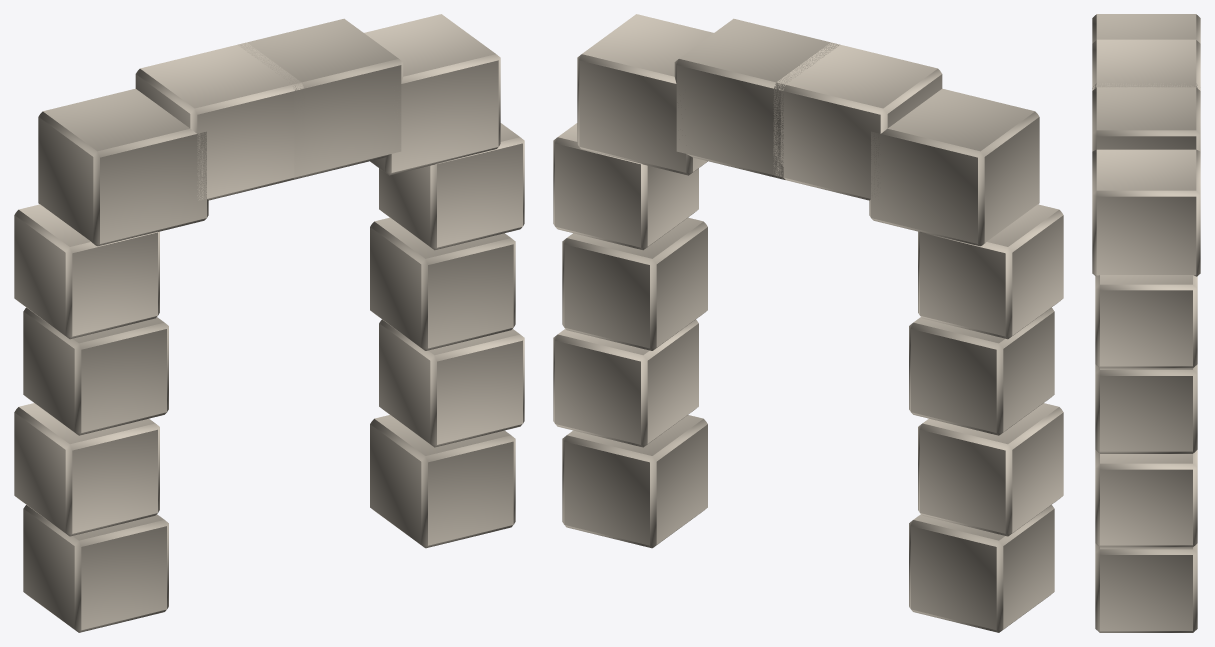
File: prop_ruin_arch.glb
The picture shows the model from 3 angles, left to right: view 1: azimuth 30°, elevation 25°; view 2: azimuth 150°, elevation 25°; view 3: azimuth 270°, elevation 25°; orthographic projection. The views are drawn at different scales.
Parts seen in each view (by area): view 1: arch_top_0, arch_top_1, arch_top_2, arch_1_0, arch_1_2, arch_-1_1, arch_top_3, arch_-1_3, arch_-1_2, arch_1_1, arch_-1_0, arch_1_3; view 2: arch_top_0, arch_top_1, arch_top_2, arch_1_0, arch_1_2, arch_-1_1, arch_top_3, arch_-1_3, arch_-1_2, arch_1_1, arch_-1_0, arch_1_3; view 3: arch_top_3, arch_1_1, arch_1_3, arch_1_0, arch_1_2, arch_top_2, arch_top_1, arch_top_0.
Part boxes in pixels (x1,y1,x2,y2): arch_top_0: (38, 88, 208, 246); arch_top_1: (135, 42, 304, 200); arch_top_2: (238, 18, 403, 179); arch_1_0: (370, 415, 515, 548); arch_1_2: (370, 217, 515, 350); arch_-1_1: (14, 403, 159, 536); arch_top_3: (364, 14, 500, 175); arch_-1_3: (14, 204, 159, 339); arch_-1_2: (23, 307, 168, 435); arch_1_1: (379, 319, 524, 447); arch_-1_0: (23, 505, 168, 632); arch_1_3: (379, 123, 524, 250); arch_top_0: (869, 88, 1039, 246); arch_top_1: (773, 42, 942, 200); arch_top_2: (674, 18, 839, 179); arch_1_0: (562, 415, 707, 548); arch_1_2: (562, 217, 707, 350); arch_-1_1: (918, 403, 1063, 536); arch_top_3: (577, 14, 713, 175); arch_-1_3: (918, 204, 1063, 339); arch_-1_2: (909, 307, 1054, 435); arch_1_1: (553, 319, 698, 447); arch_-1_0: (909, 505, 1054, 632); arch_1_3: (553, 123, 698, 250); arch_top_3: (1092, 149, 1200, 276); arch_1_1: (1095, 450, 1197, 547); arch_1_3: (1095, 275, 1197, 368); arch_1_0: (1095, 543, 1197, 632); arch_1_2: (1095, 364, 1197, 453); arch_top_2: (1092, 83, 1200, 151); arch_top_1: (1092, 39, 1200, 90); arch_top_0: (1092, 14, 1200, 43).
Bounding box in the file's own units: 1.51 × 1.56 × 0.34.
